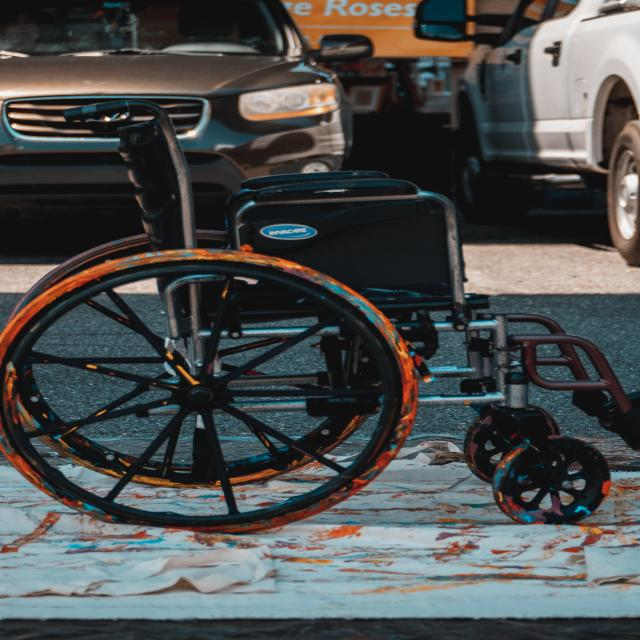wheelchairs: (0, 100, 640, 524)
